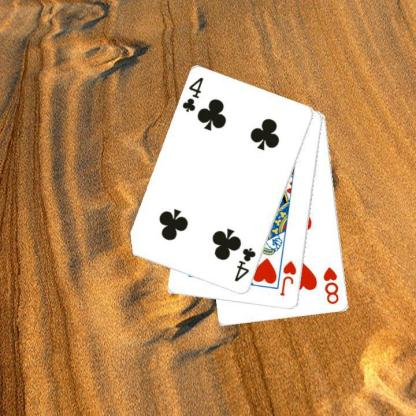4C: (180, 75, 205, 114), (232, 246, 257, 283)
8H: (321, 264, 340, 306)
JH: (278, 258, 298, 298)
